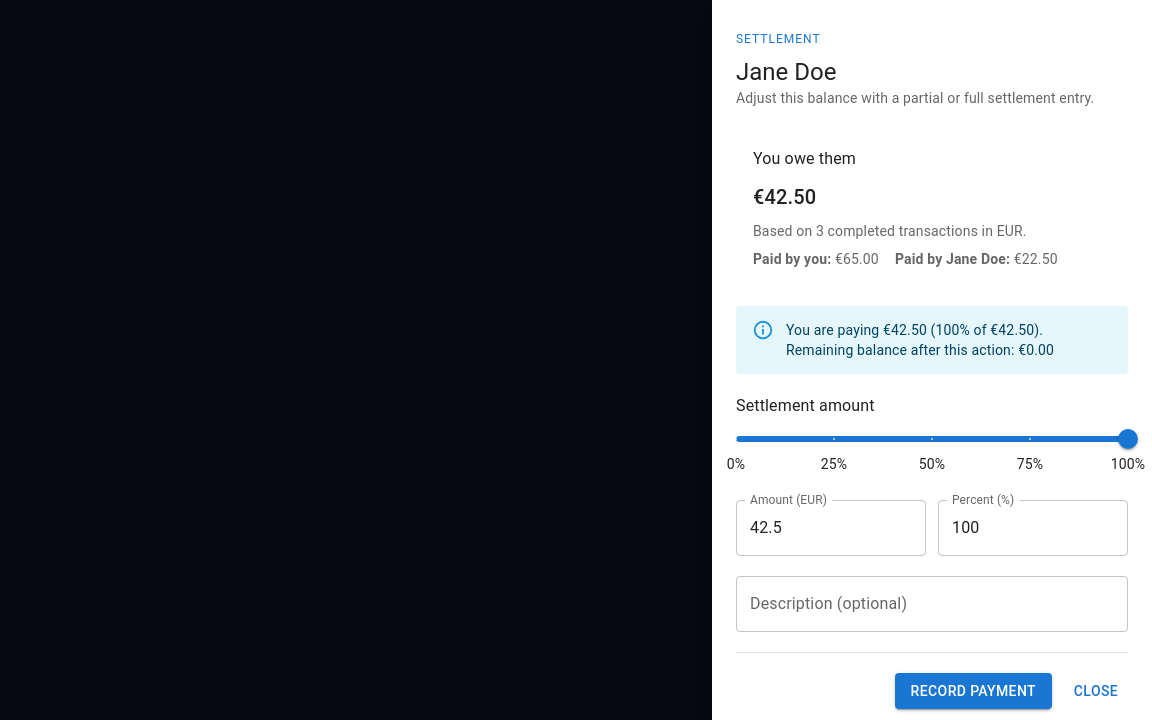
Test: shows payment wording and supports manual percent input for debts you owe
This screenshot has width=1152, height=720.
Replace the text in the number field labelled "Percent (%)" with "37" at (1033, 528), box x1=938 y1=500 x2=1128 y2=556
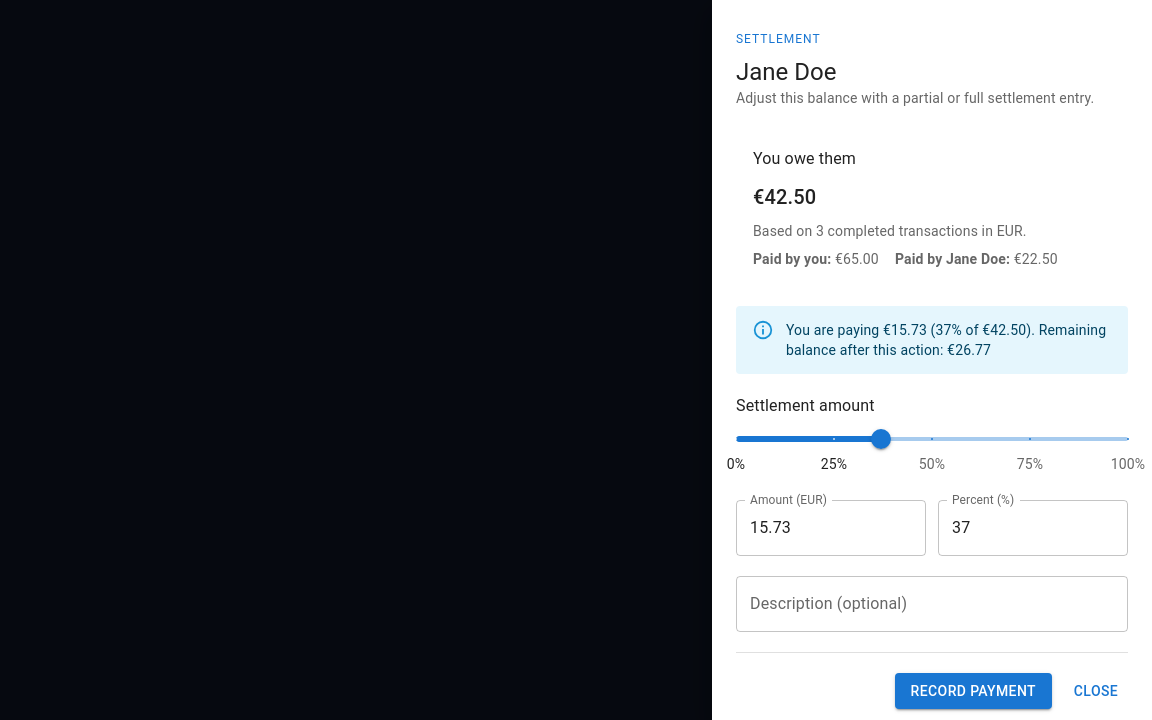
Expected: the slider named "settlement amount percentage" is shown, x1=871 y1=429 x2=891 y2=449
Now the message shows "37%", box x1=786 y1=322 x2=1035 y2=338
Now the number field labelled "Amount (EUR)" holds "15.73", box x1=736 y1=500 x2=926 y2=556
